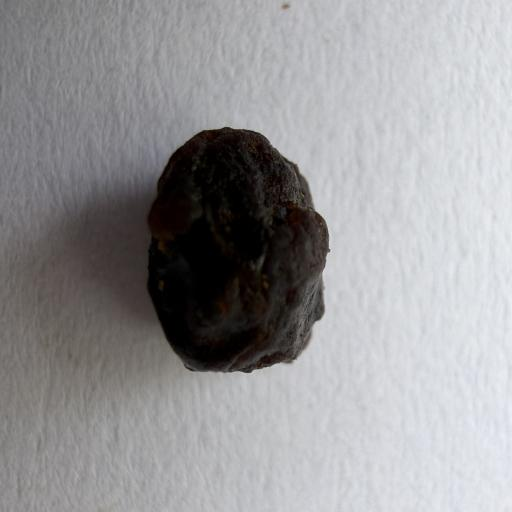Black_pepper: (142, 105, 345, 404)
